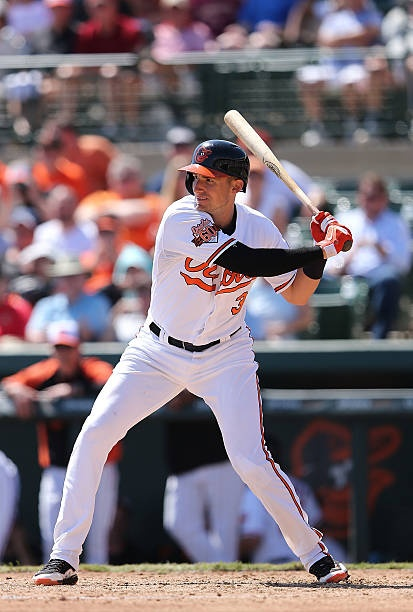bita: (228, 111, 335, 230)
